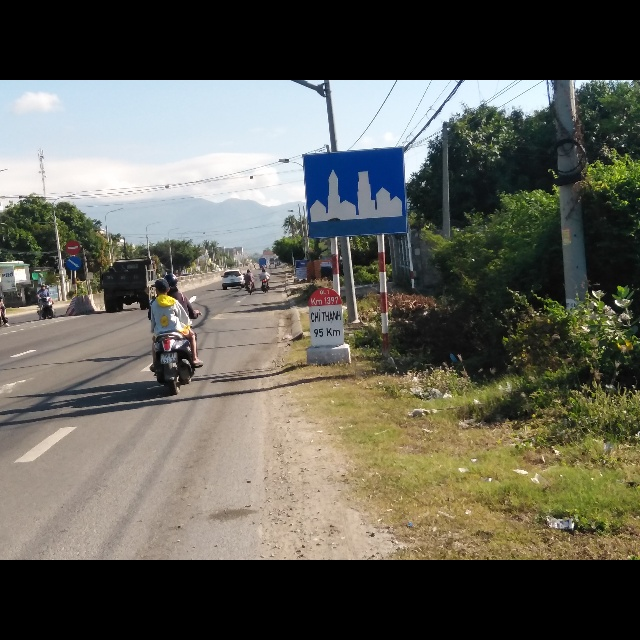Khu đông dân cư: (302, 146, 407, 239)
